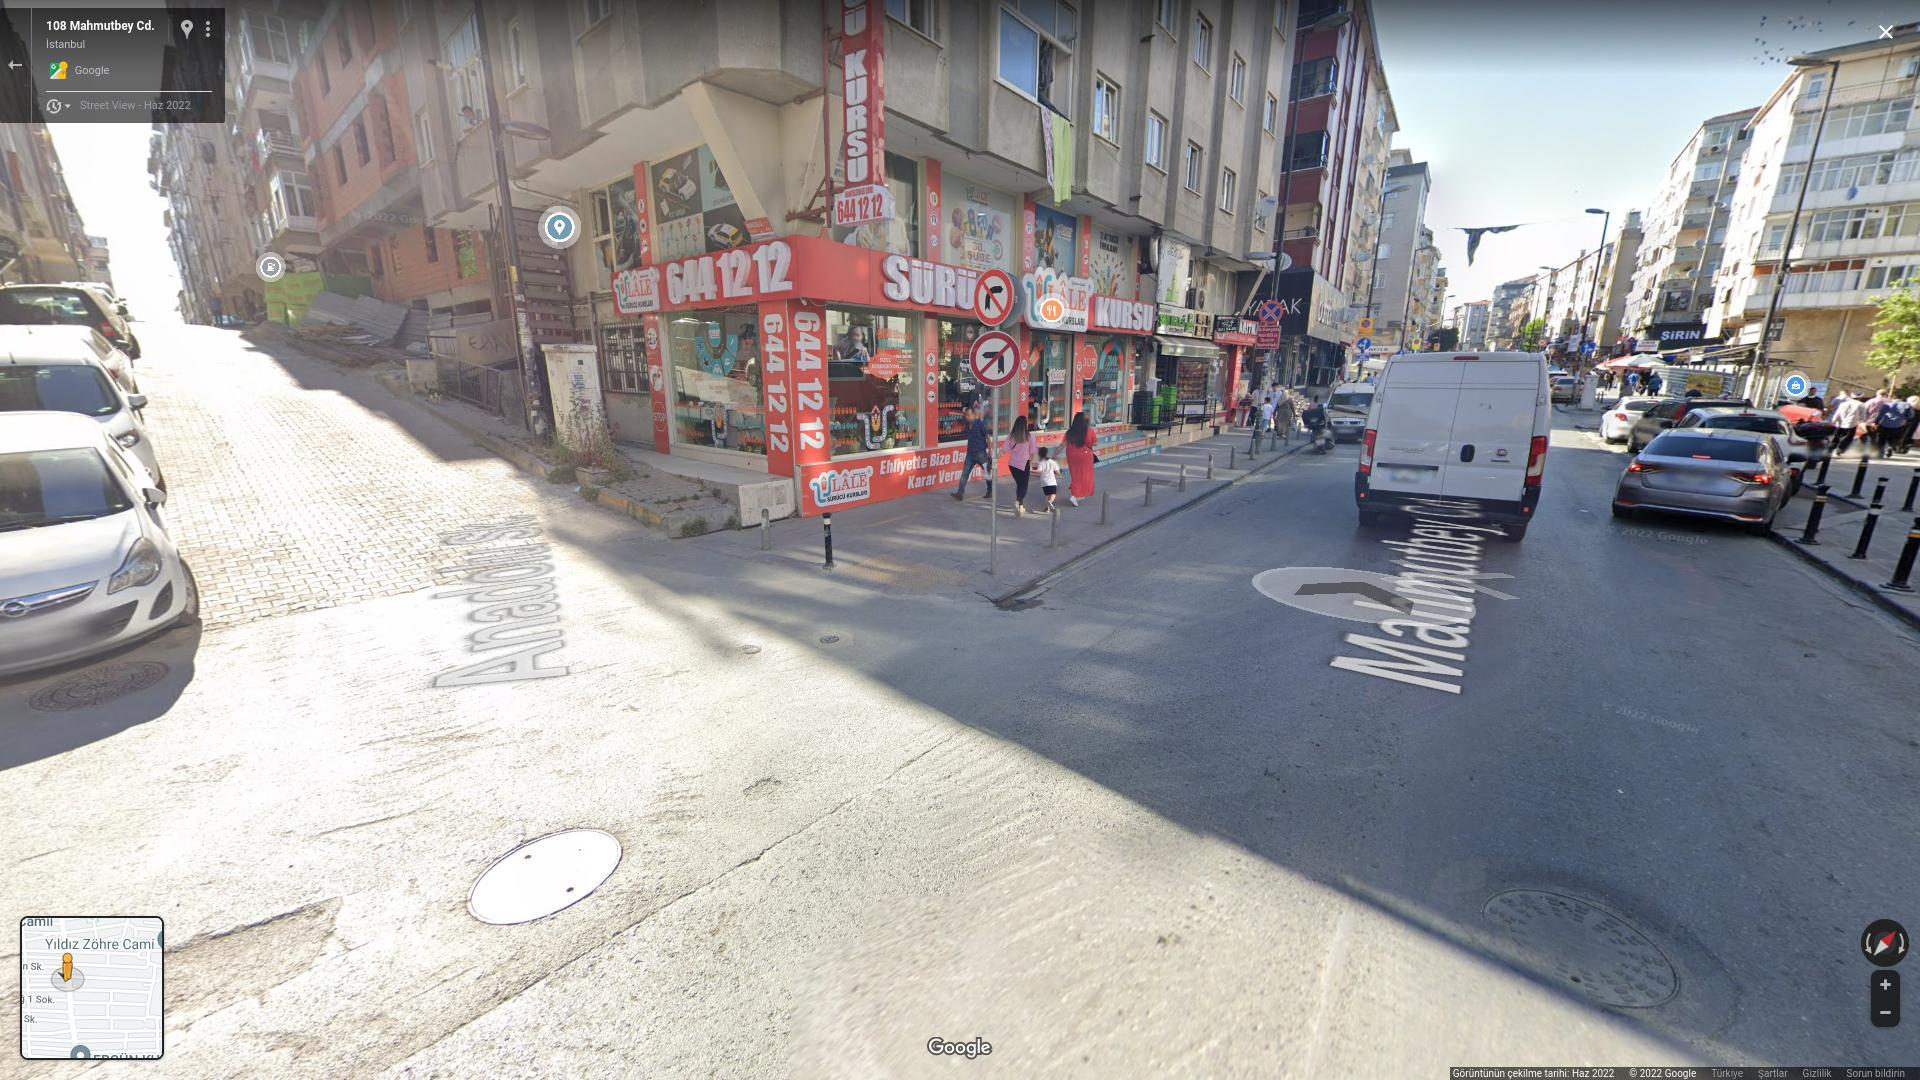leftturnsareforbidden: (968, 331, 1025, 390)
rightturnsareforbidden: (968, 265, 1017, 330)
